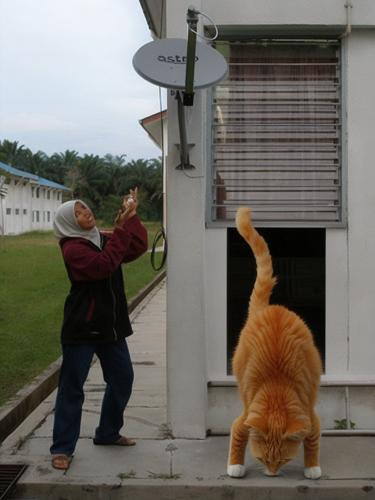cat: (226, 203, 325, 478)
person: (46, 189, 149, 472)
person/foot: (114, 436, 136, 447), (53, 457, 69, 468)
person/hand: (124, 190, 137, 217), (116, 208, 132, 228)
person/head: (52, 200, 97, 232)
